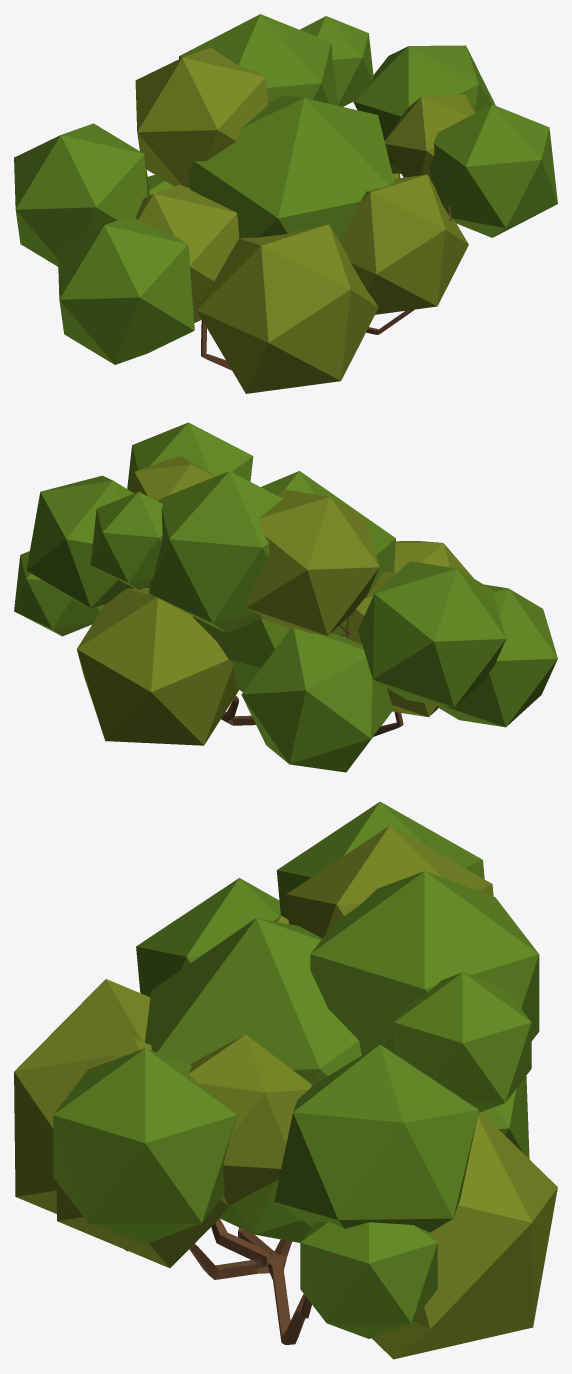
File: Bush.fbx
3 renders of one model, top to bottom at view 1: azimuth 30°, elevation 25°; view 2: azimuth 150°, elevation 25°; view 3: azimuth 270°, elevation 25°, orthographic. The views are drawn at different scales.
Parts seen in each view (by area): view 1: Bush; view 2: Bush; view 3: Bush.
Boxes of the visible parts, x1,y1,x2,y2 form: Bush: (14, 14, 557, 393); Bush: (14, 422, 557, 772); Bush: (14, 801, 557, 1359).
Bounding box in the file's own units: 219 × 127 × 141.
